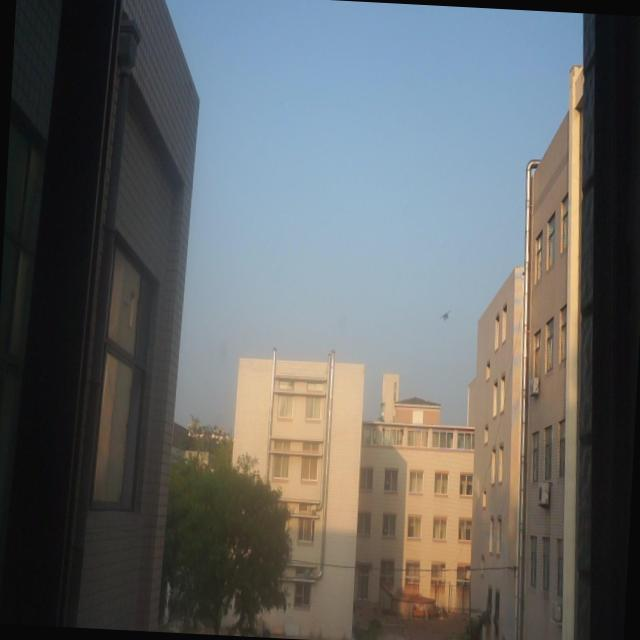drone: (439, 309, 454, 325)
